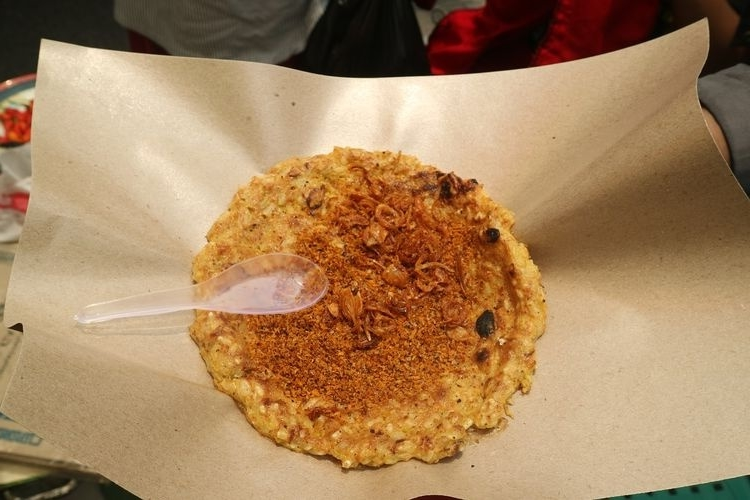kerak_telor: (188, 146, 550, 474)
